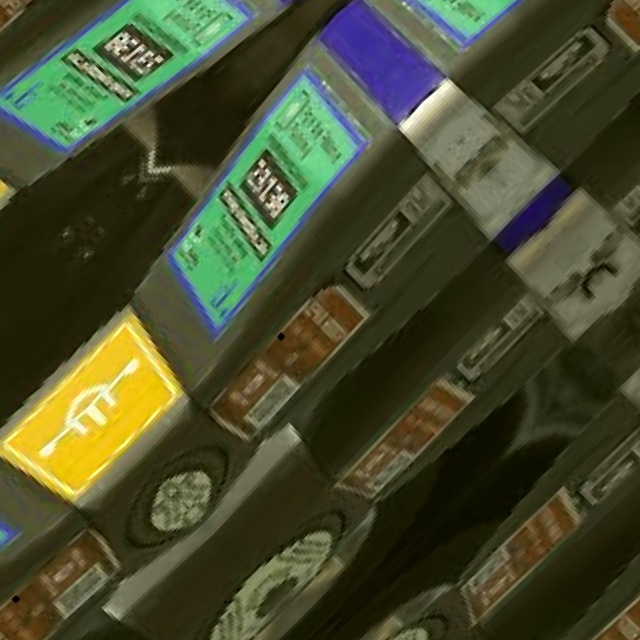ISA: (72, 339, 169, 436), (20, 391, 116, 488)
